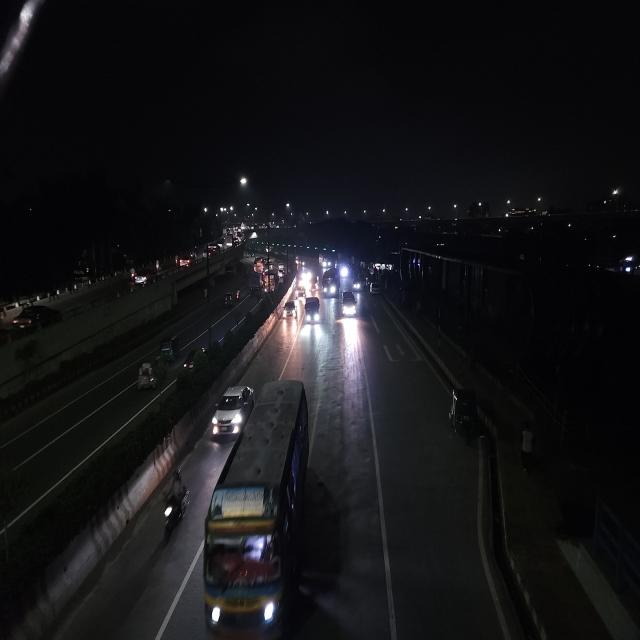bus: (200, 377, 314, 638), (321, 267, 339, 299)
car: (209, 379, 255, 442), (9, 302, 66, 335), (304, 293, 322, 326), (340, 288, 359, 319), (282, 297, 298, 321), (131, 271, 149, 287), (176, 254, 192, 269), (368, 282, 383, 297), (352, 275, 362, 292), (296, 284, 306, 300), (207, 245, 216, 254)
cng: (446, 383, 480, 448), (134, 355, 166, 393), (158, 335, 178, 361), (224, 261, 236, 277), (224, 294, 233, 308)
motorcycle: (160, 467, 190, 543), (182, 345, 208, 374), (311, 275, 320, 294)
pedestrian: (515, 417, 539, 478)
